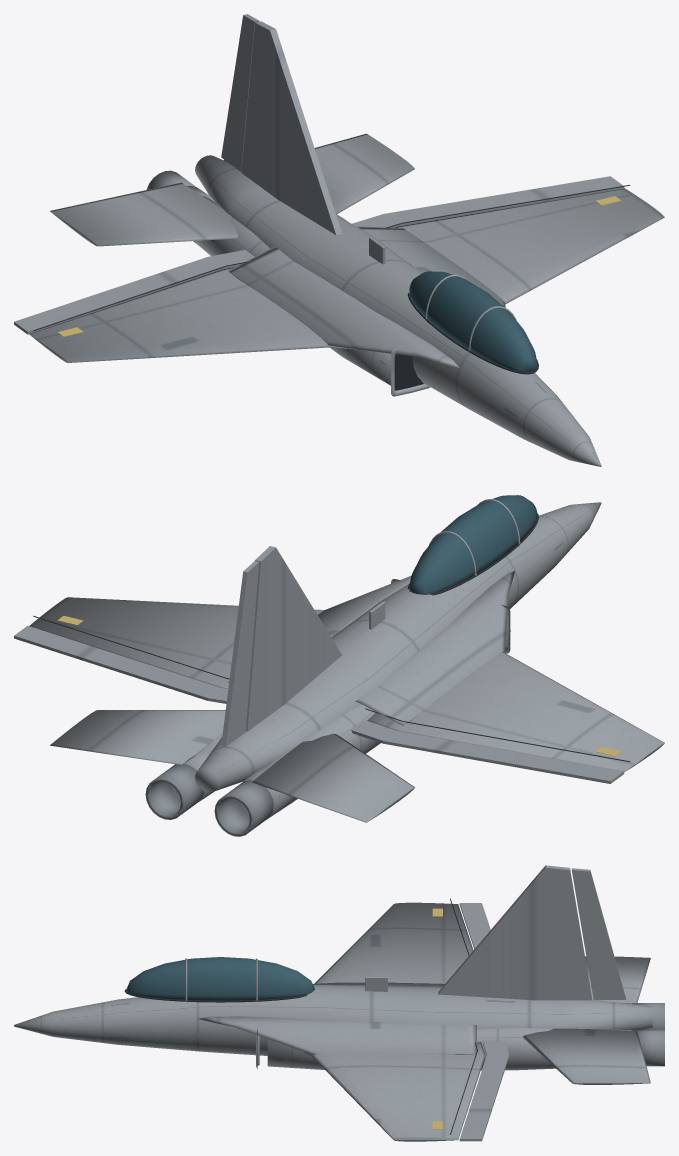
File: yak-130.glb
The picture shows the model from 3 angles, top to bottom: view 1: azimuth 30°, elevation 25°; view 2: azimuth 150°, elevation 25°; view 3: azimuth 270°, elevation 25°; orthographic projection. The views are drawn at different scales.
Visible parts, largest first — view 1: airframe_static, tailplane_L, canopy, tailplane_R, elevon_L, elevon_R, rudder_1; view 2: airframe_static, tailplane_L, canopy, tailplane_R, elevon_L, elevon_R, rudder_1; view 3: airframe_static, canopy, tailplane_R, rudder_1, elevon_R, tailplane_L, elevon_L.
Boxes of the visible parts, box(x1,y1,x2,y2) form: airframe_static: box(29, 21, 664, 466); tailplane_L: box(50, 182, 237, 246); canopy: box(407, 271, 538, 374); tailplane_R: box(314, 133, 414, 213); elevon_L: box(14, 250, 254, 334); elevon_R: box(352, 176, 624, 227); rudder_1: box(221, 14, 259, 171); airframe_static: box(29, 502, 664, 836); tailplane_L: box(252, 733, 414, 822); canopy: box(407, 495, 538, 595); tailplane_R: box(50, 710, 225, 764); elevon_L: box(351, 720, 624, 783); elevon_R: box(14, 625, 228, 703); rudder_1: box(221, 561, 259, 746); airframe_static: box(14, 865, 664, 1141); canopy: box(124, 957, 314, 1002); tailplane_R: box(522, 1028, 650, 1084); rudder_1: box(571, 868, 625, 999); elevon_R: box(459, 1040, 509, 1141); tailplane_L: box(585, 956, 650, 1003); elevon_L: box(459, 903, 490, 948).
Size of the model in its own units: 9.86 by 3.69 by 11.48.
5 materials, 1 textured.
